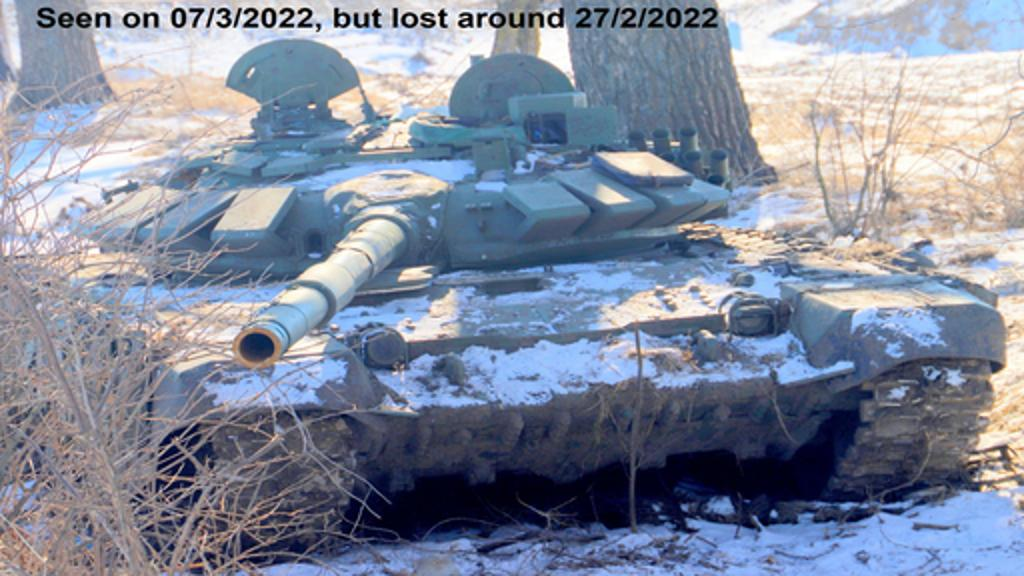TANK: (0, 34, 1008, 546)
